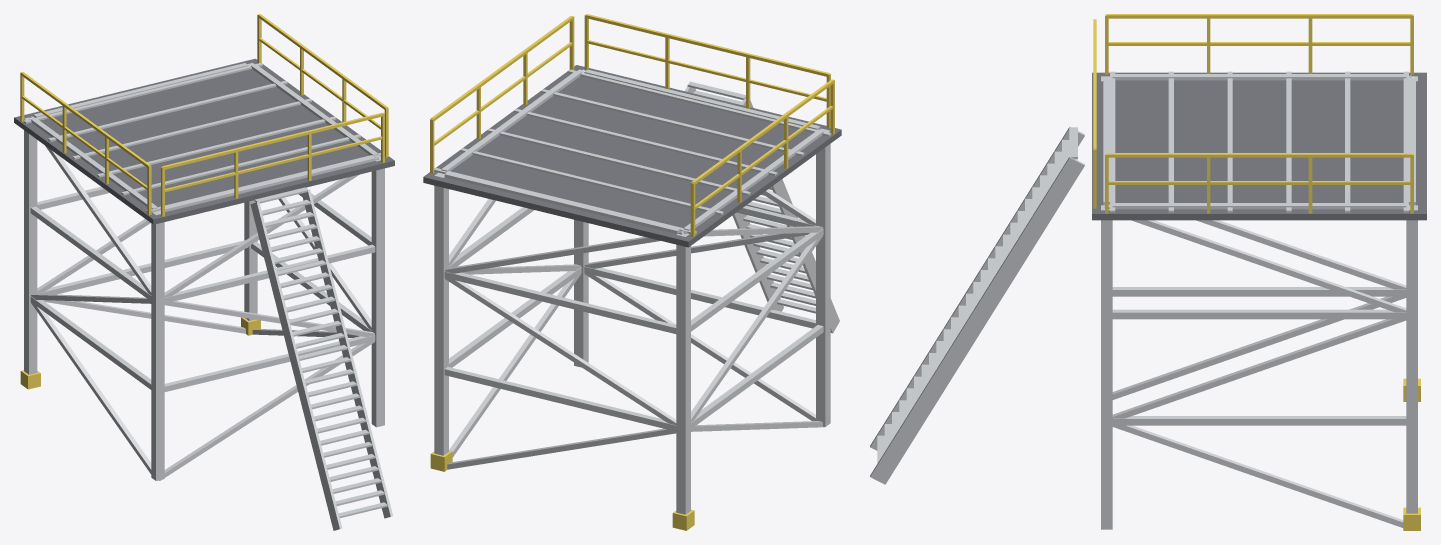
Rendered from gantry.glb.
3 renders of one model, left to right at view 1: azimuth 30°, elevation 25°; view 2: azimuth 150°, elevation 25°; view 3: azimuth 270°, elevation 25°, orthographic. The views are drawn at different scales.
Parts seen in each view (by area): view 1: gantry-tower-section; view 2: gantry-tower-section; view 3: gantry-tower-section.
Boxes of the visible parts, box(x1,y1,x2,y2) form: gantry-tower-section: box(14, 14, 394, 530); gantry-tower-section: box(423, 14, 841, 530); gantry-tower-section: box(870, 14, 1426, 530).
Bounding box in the file's own units: 5.7 × 7.23 × 9.48.
